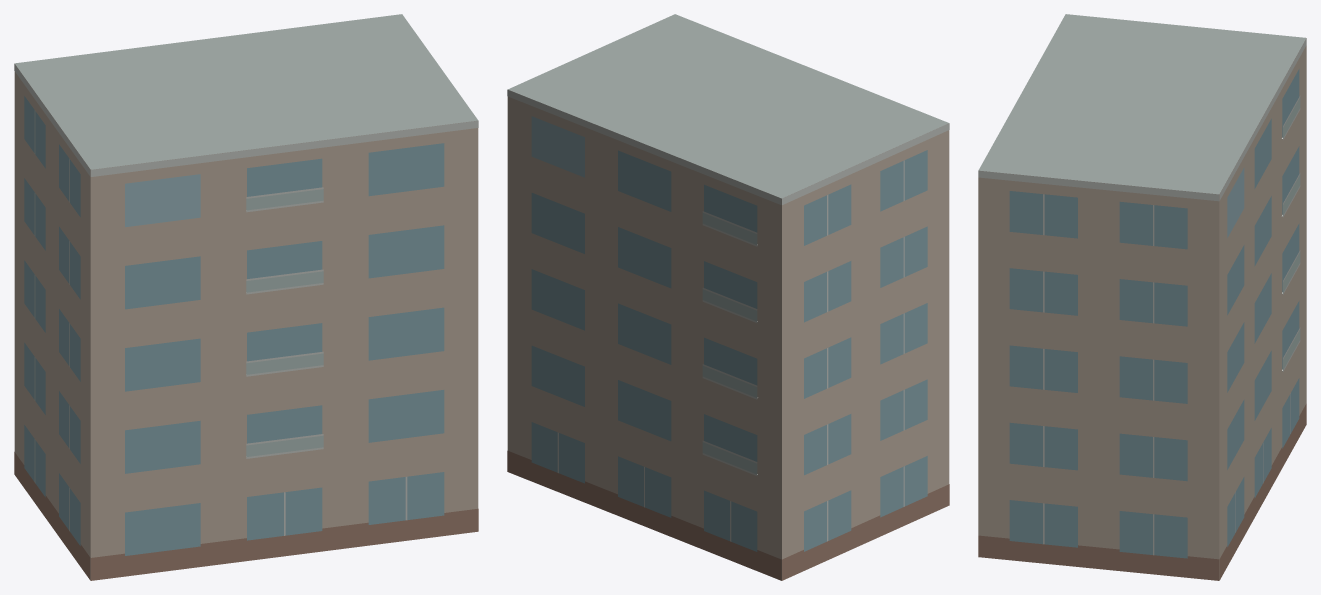
Rendered from survey-upis-32703929.glb.
3 renders of one model, left to right at view 1: azimuth 30°, elevation 25°; view 2: azimuth 150°, elevation 25°; view 3: azimuth 270°, elevation 25°, orthographic. The views are drawn at different scales.
Visible parts, largest first — view 1: survey-upis-32703929.tmp; view 2: survey-upis-32703929.tmp; view 3: survey-upis-32703929.tmp.
Part boxes in pixels (x1,y1,x2,y2): survey-upis-32703929.tmp: (14, 14, 478, 580); survey-upis-32703929.tmp: (507, 14, 949, 580); survey-upis-32703929.tmp: (978, 14, 1306, 580).
Bounding box in the file's own units: 13.68 × 13.65 × 10.52.
